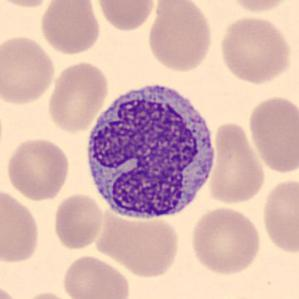Monocyte: (80, 73, 222, 225)
RBC: (94, 210, 183, 279), (188, 204, 264, 277), (217, 14, 294, 86), (206, 119, 267, 207), (146, 1, 216, 74), (44, 59, 110, 134), (4, 136, 72, 202), (0, 32, 57, 107), (246, 93, 298, 175), (37, 0, 103, 56), (59, 252, 132, 299), (0, 185, 42, 265), (260, 175, 299, 256), (51, 192, 104, 251), (93, 0, 158, 33), (226, 0, 295, 15), (18, 289, 77, 299), (0, 0, 59, 9), (0, 281, 22, 299)
